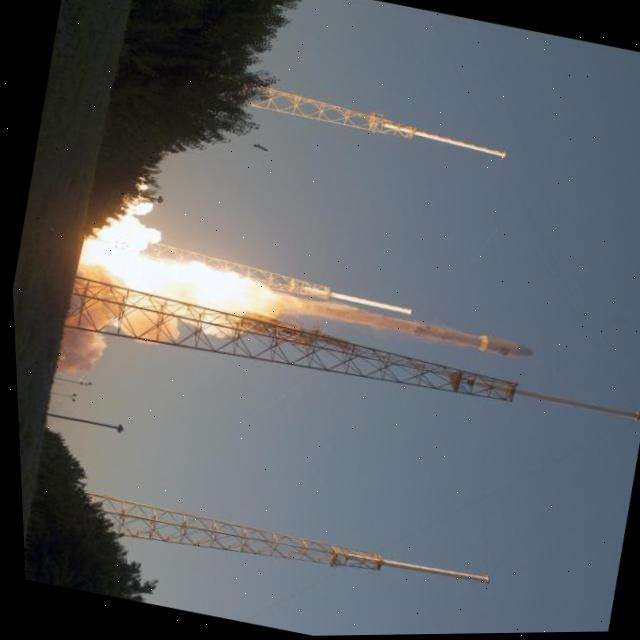missile: (269, 286, 534, 372)
